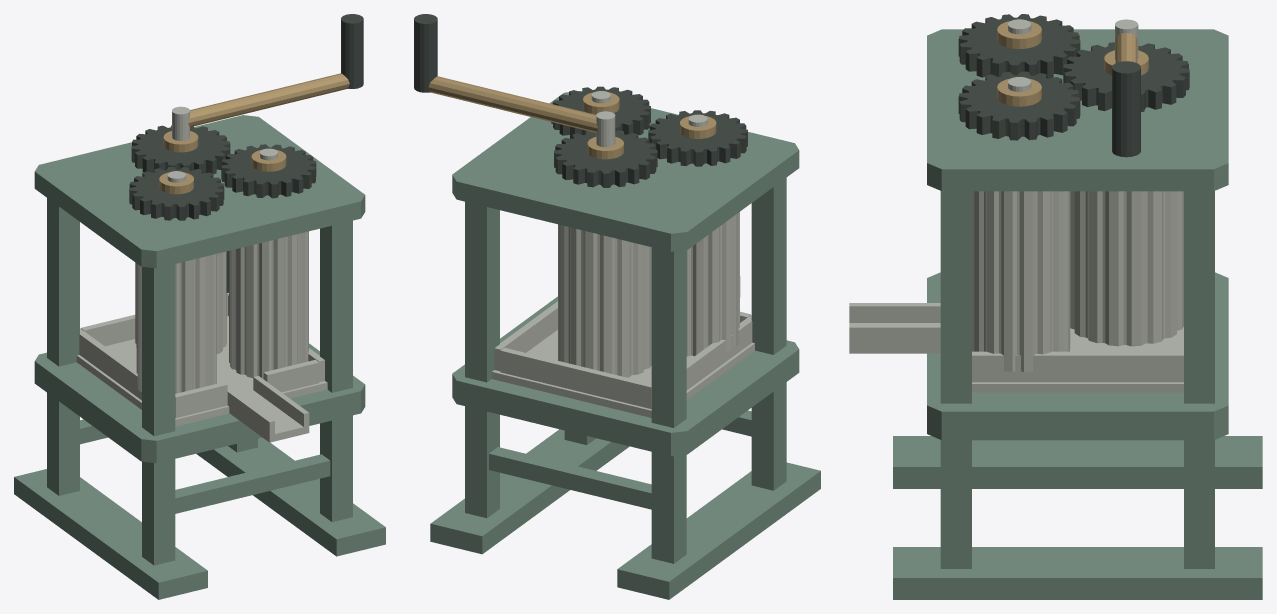
3 renders of one model, left to right at view 1: azimuth 30°, elevation 25°; view 2: azimuth 150°, elevation 25°; view 3: azimuth 270°, elevation 25°, orthographic. The views are drawn at different scales.
Visible parts, largest first — view 1: WholeUpperBearingPlatform, WholeLowerBearingPlatform, WholeVerticallyFlutedRightRoll, WholeFullUpright0_0, WholeLongFiniteGroundSkid0, WholeFullUpright1_0, WholeFullUpright0_1, WholeLongFiniteGroundSkid1, WholeVerticallyFlutedLeftRoll, WholeLowTransverseStandBrace0, WholeUpperRightToothedGearExterior, WholeUpperLeftToothedGearExterior (+14 smaller); view 2: WholeUpperBearingPlatform, WholeLowerBearingPlatform, WholeVerticallyFlutedRearRoll, WholeFullUpright0_1, WholeLongFiniteGroundSkid0, WholeFullUpright1_1, WholeFullUpright0_0, WholeLongFiniteGroundSkid1, WholeVerticallyFlutedLeftRoll, WholeLowTransverseStandBrace1, WholeUpperRearToothedGearExterior, WholeCollectorRearRim (+11 smaller); view 3: WholeUpperBearingPlatform, WholeLongFiniteGroundSkid1, WholeVerticallyFlutedRearRoll, WholeLowerBearingPlatform, WholeVerticallyFlutedRightRoll, WholeLongFiniteGroundSkid0, WholeFullUpright1_0, WholeFullUpright1_1, WholeCollectorSideRim1, WholeUpperRightToothedGearExterior, WholeUpperLeftToothedGearExterior, WholeUpperRearToothedGearExterior (+6 smaller).
Part boxes in pixels (x1=…): WholeUpperBearingPlatform: x1=34, y1=115, x2=365, y2=268; WholeLowerBearingPlatform: x1=34, y1=343, x2=365, y2=463; WholeVerticallyFlutedRightRoll: x1=229, y1=231, x2=308, y2=378; WholeFullUpright0_0: x1=142, y1=264, x2=175, y2=565; WholeLongFiniteGroundSkid0: x1=14, y1=469, x2=207, y2=599; WholeFullUpright1_0: x1=320, y1=220, x2=352, y2=521; WholeFullUpright0_1: x1=47, y1=198, x2=79, y2=495; WholeLongFiniteGroundSkid1: x1=196, y1=437, x2=385, y2=556; WholeVerticallyFlutedLeftRoll: x1=136, y1=254, x2=216, y2=393; WholeLowTransverseStandBrace0: x1=175, y1=454, x2=330, y2=513; WholeUpperRightToothedGearExterior: x1=221, y1=144, x2=316, y2=198; WholeUpperLeftToothedGearExterior: x1=129, y1=167, x2=224, y2=220; WholeUpperBearingPlatform: x1=452, y1=91, x2=799, y2=251; WholeLowerBearingPlatform: x1=452, y1=296, x2=799, y2=456; WholeVerticallyFlutedRearRoll: x1=558, y1=224, x2=651, y2=377; WholeFullUpright0_1: x1=651, y1=247, x2=686, y2=563; WholeLongFiniteGroundSkid0: x1=617, y1=462, x2=820, y2=599; WholeFullUpright1_1: x1=465, y1=201, x2=499, y2=518; WholeFullUpright0_0: x1=751, y1=177, x2=786, y2=490; WholeLongFiniteGroundSkid1: x1=430, y1=429, x2=629, y2=554; WholeVerticallyFlutedLeftRoll: x1=686, y1=212, x2=739, y2=356; WholeLowTransverseStandBrace1: x1=489, y1=447, x2=651, y2=509; WholeUpperRearToothedGearExterior: x1=554, y1=130, x2=657, y2=187; WholeCollectorRearRim: x1=500, y1=347, x2=651, y2=408; WholeUpperBearingPlatform: x1=927, y1=29, x2=1228, y2=191; WholeLongFiniteGroundSkid1: x1=893, y1=547, x2=1262, y2=599; WholeVerticallyFlutedRearRoll: x1=1070, y1=191, x2=1183, y2=346; WholeLowerBearingPlatform: x1=927, y1=272, x2=1228, y2=440; WholeVerticallyFlutedRightRoll: x1=972, y1=191, x2=1070, y2=371; WholeLongFiniteGroundSkid0: x1=893, y1=436, x2=1262, y2=488; WholeFullUpright1_0: x1=940, y1=191, x2=971, y2=568; WholeFullUpright1_1: x1=1184, y1=191, x2=1214, y2=568; WholeCollectorSideRim1: x1=972, y1=351, x2=1183, y2=382; WholeUpperRightToothedGearExterior: x1=958, y1=71, x2=1080, y2=140; WholeUpperLeftToothedGearExterior: x1=958, y1=14, x2=1080, y2=78; WholeUpperRearToothedGearExterior: x1=1063, y1=42, x2=1189, y2=111.
Bounding box in the file's own units: 0.895 × 1.29 × 0.85.
